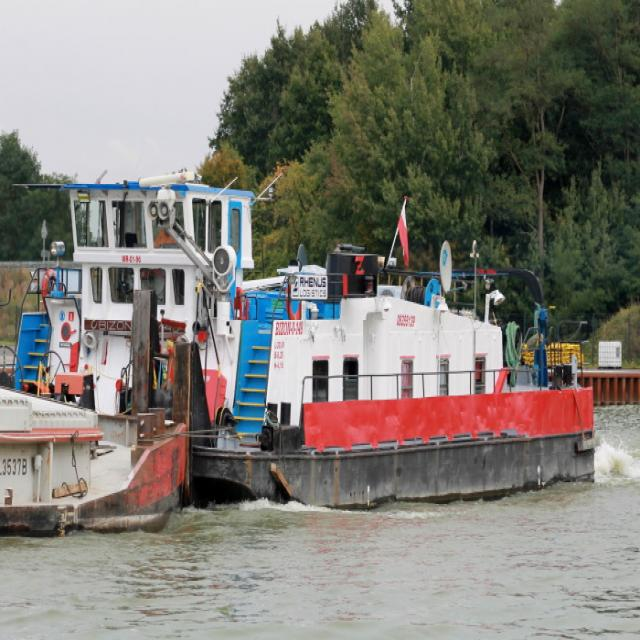tugboat: (1, 166, 604, 527)
